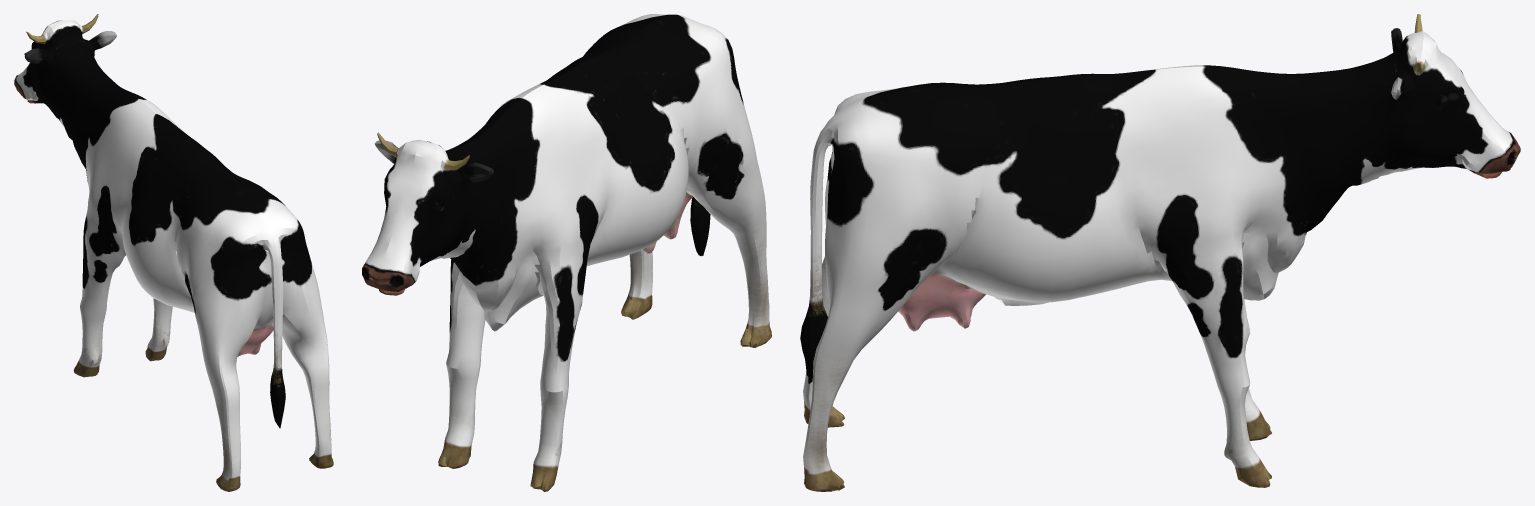
The model's file is Koe.fbx.
The picture shows the model from 3 angles, left to right: view 1: azimuth 30°, elevation 25°; view 2: azimuth 150°, elevation 25°; view 3: azimuth 270°, elevation 25°; orthographic projection. The views are drawn at different scales.
Parts seen in each view (by area): view 1: vaca; view 2: vaca; view 3: vaca.
Boxes of the visible parts, left/top/right/bottom form: vaca: left=14, top=14, right=333, bottom=491; vaca: left=362, top=14, right=771, bottom=491; vaca: left=800, top=14, right=1520, bottom=491.
Bounding box in the file's own units: 81.01 × 199 × 307.
Materials: 1 (1 with a texture image).
